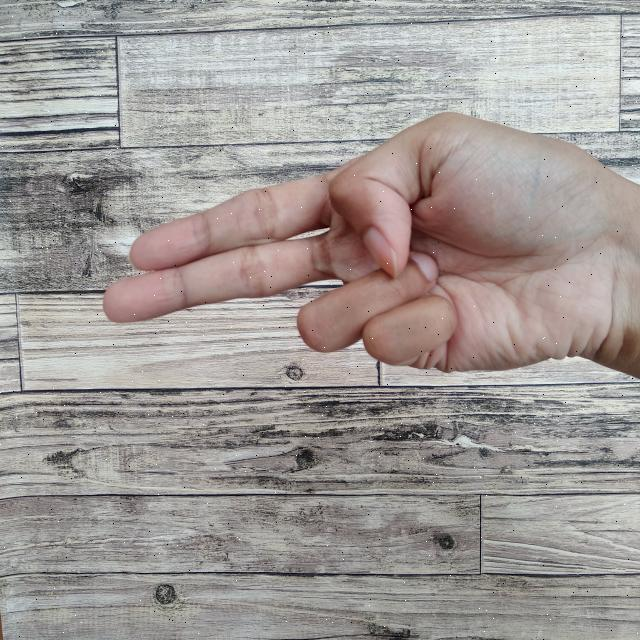H: (89, 103, 640, 396)
